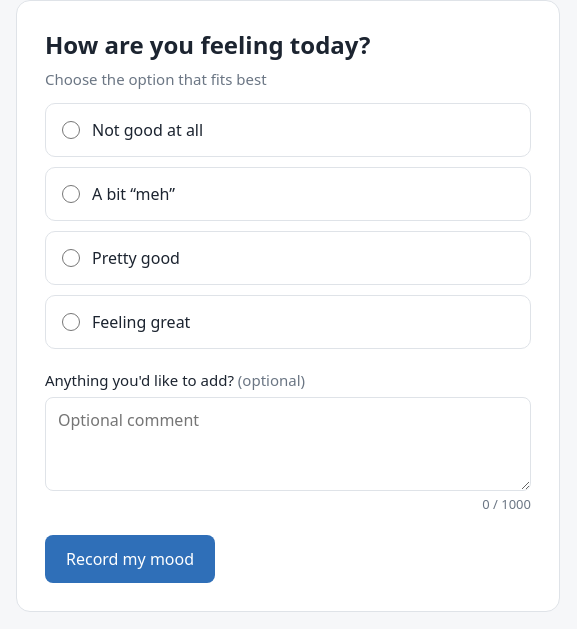
MoodTrackerComponent › submits the chosen mood and confirms it was recorded
Click the radio button with class "option__input" showing "Pretty good" at (71, 258), box [62, 249, 80, 267]
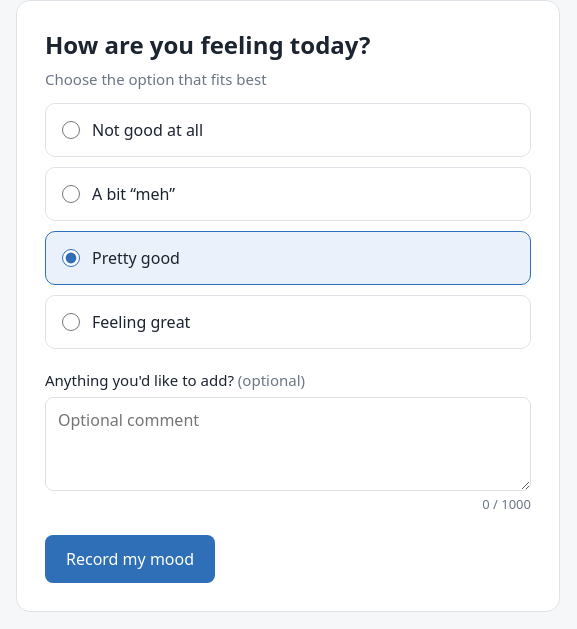
Submit the form
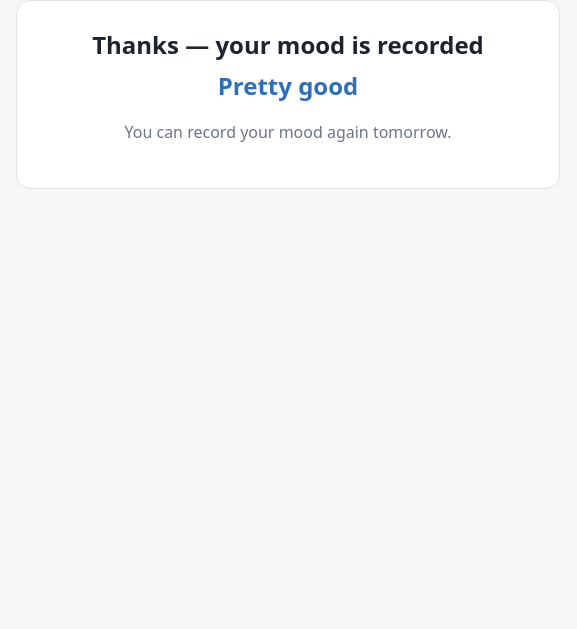
Expected: the text "your mood is recorded" is shown, [92, 28, 484, 61]
